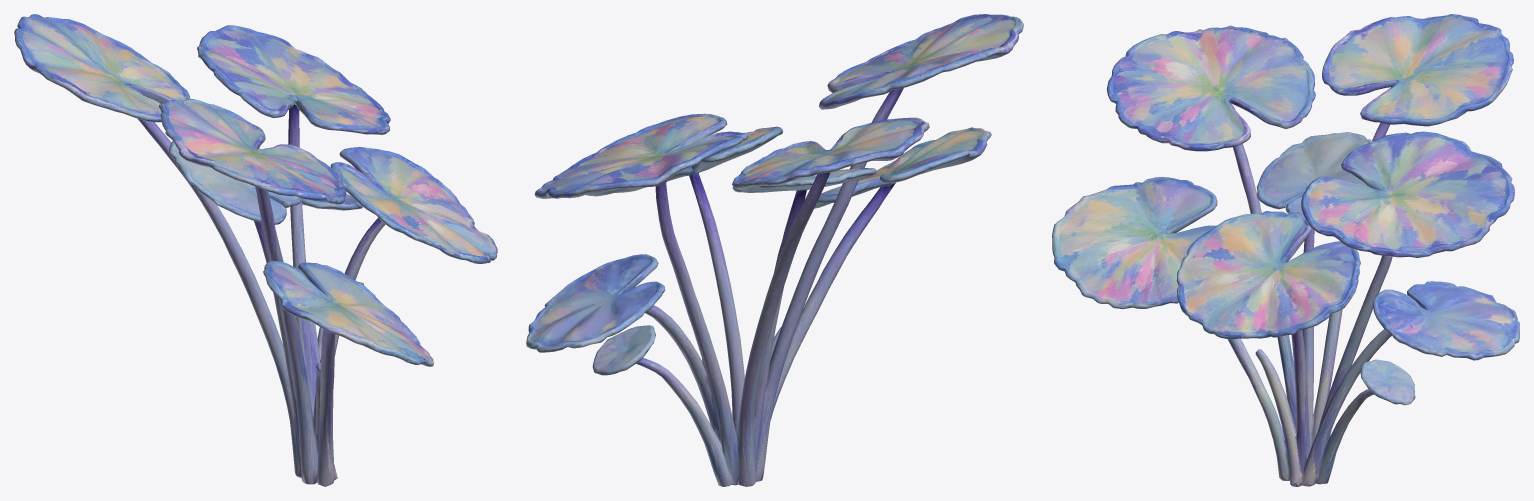
File: lily+pads+3d+model+1k.glb
3 views of the same model, side by side, from view 1: azimuth 30°, elevation 25°; view 2: azimuth 150°, elevation 25°; view 3: azimuth 270°, elevation 25° (orthographic). The views are drawn at different scales.
Parts seen in each view (by area): view 1: tripo_node_6798f76c-5aa4-4278-8d18-88ce27e656d6; view 2: tripo_node_6798f76c-5aa4-4278-8d18-88ce27e656d6; view 3: tripo_node_6798f76c-5aa4-4278-8d18-88ce27e656d6.
Boxes of the visible parts, bbox=[...] form: tripo_node_6798f76c-5aa4-4278-8d18-88ce27e656d6: bbox=[14, 14, 497, 486]; tripo_node_6798f76c-5aa4-4278-8d18-88ce27e656d6: bbox=[526, 14, 1023, 486]; tripo_node_6798f76c-5aa4-4278-8d18-88ce27e656d6: bbox=[1052, 14, 1519, 486].
Size of the model in its own units: 0.7909 by 0.8853 by 1.
Materials: 1 (1 with a texture image).
